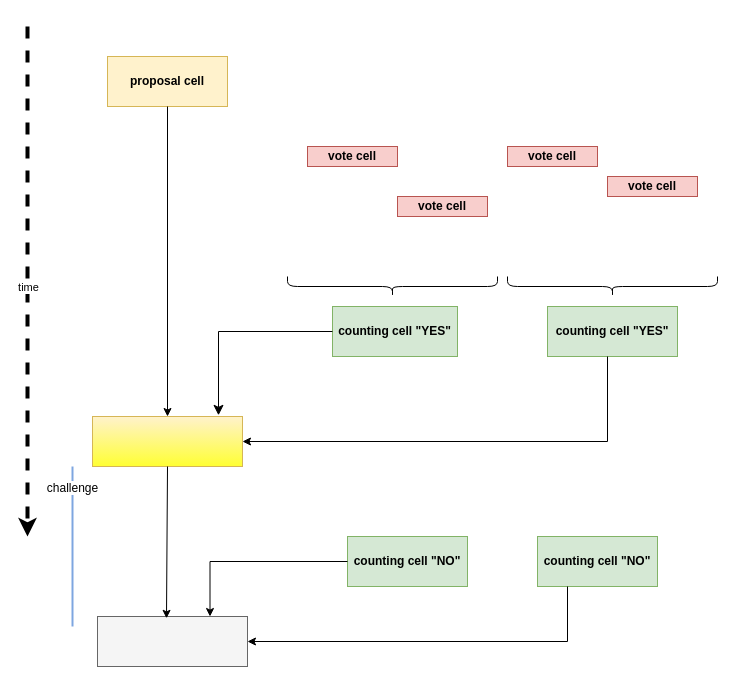
This 735x684 diagram has some shape labels left out. Each missing label, with the box of its shape:
consumed cell: (96, 616, 248, 666)
finalized proposal cell: (92, 416, 242, 466)
